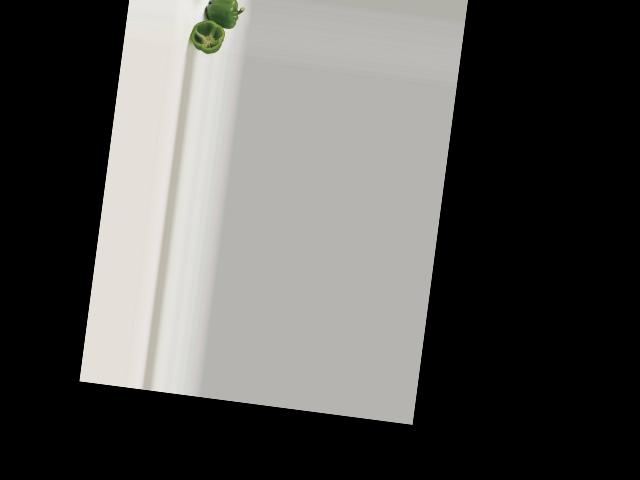bell_pepper: (186, 15, 230, 57)
